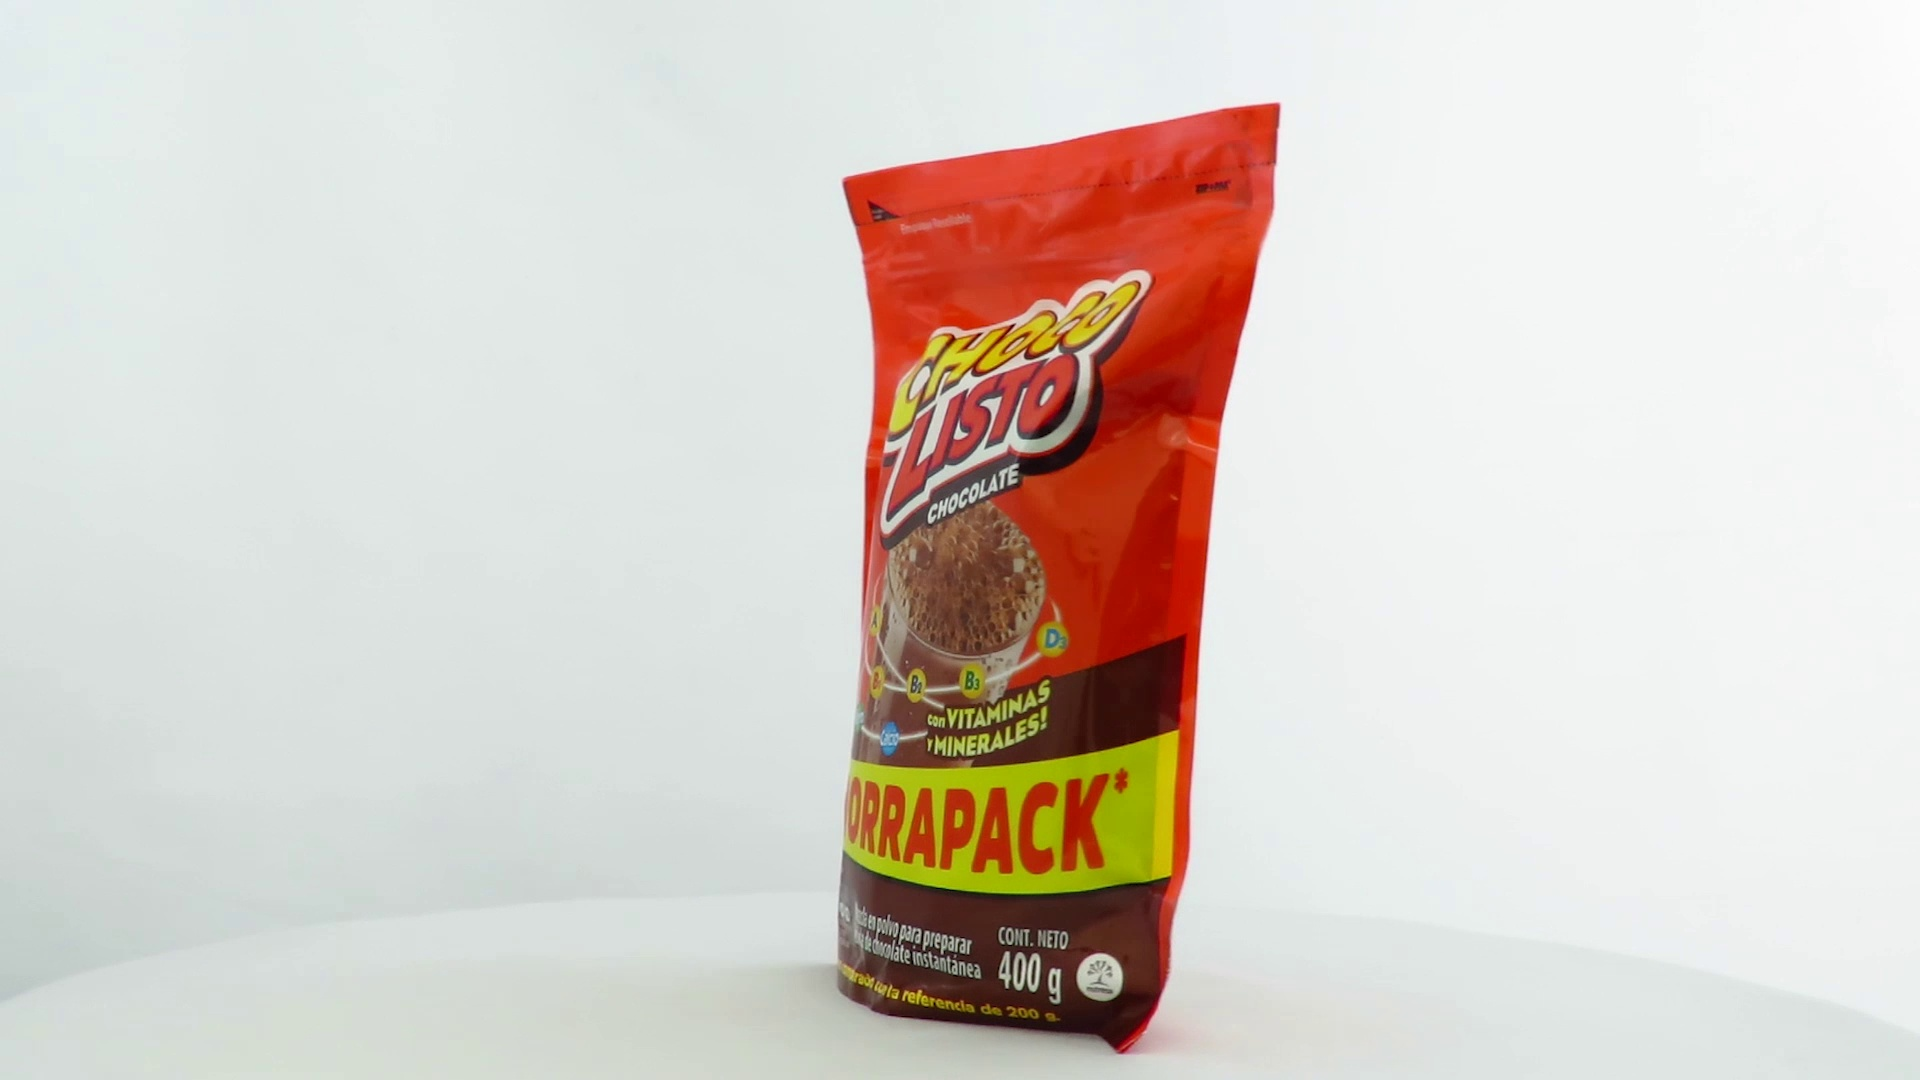COL0170103DYP40000: (832, 98, 1287, 1062)
